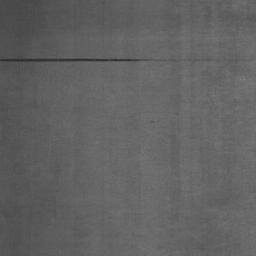Crease: (0, 58, 175, 62)
